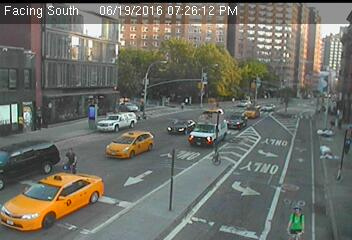neg: (283, 202, 310, 238), (58, 145, 80, 175)
pos: (81, 102, 104, 133), (204, 141, 225, 168), (317, 92, 333, 113), (280, 90, 295, 110), (340, 134, 351, 156)
